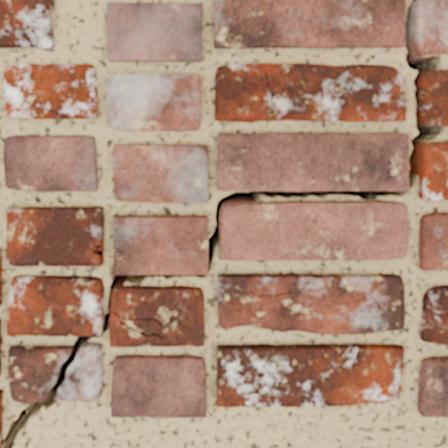brick: (217, 344, 403, 406), (218, 274, 404, 333), (218, 133, 408, 190), (215, 64, 405, 121), (220, 202, 408, 259), (214, 0, 404, 47), (112, 355, 205, 416), (7, 276, 103, 335), (110, 286, 204, 346), (7, 207, 102, 265), (107, 3, 201, 61), (114, 216, 207, 273), (114, 145, 207, 202), (107, 74, 200, 130), (4, 136, 97, 190), (4, 64, 96, 118), (0, 0, 53, 47), (413, 0, 447, 53), (418, 356, 447, 416), (420, 213, 447, 270), (420, 143, 447, 199), (420, 70, 447, 125), (421, 286, 447, 343), (0, 249, 1, 304), (0, 390, 1, 444)
broken_brick: (7, 345, 71, 404), (57, 342, 103, 401)
crack: (0, 0, 446, 447), (92, 244, 102, 259), (80, 207, 100, 213)
